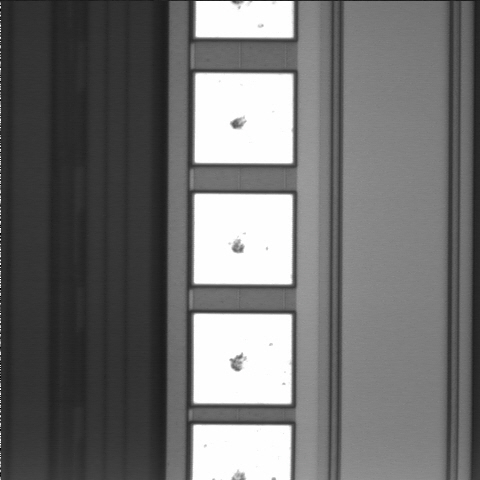pad: (194, 194, 293, 284), (195, 73, 293, 163), (194, 314, 292, 404)
